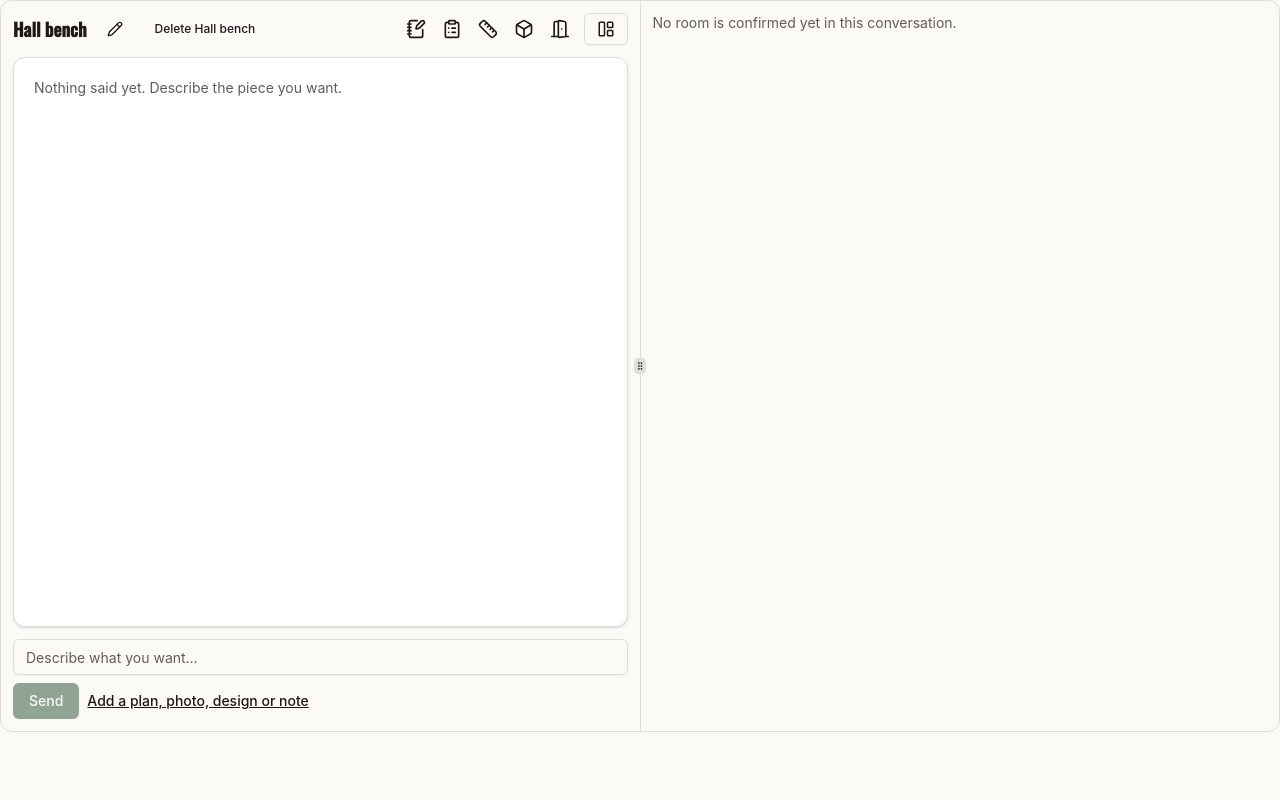
with no piece the Piece icon shows the piece pane, which says so (No piece yet)
Click the button named "Piece" at (524, 29), box [508, 13, 540, 45]
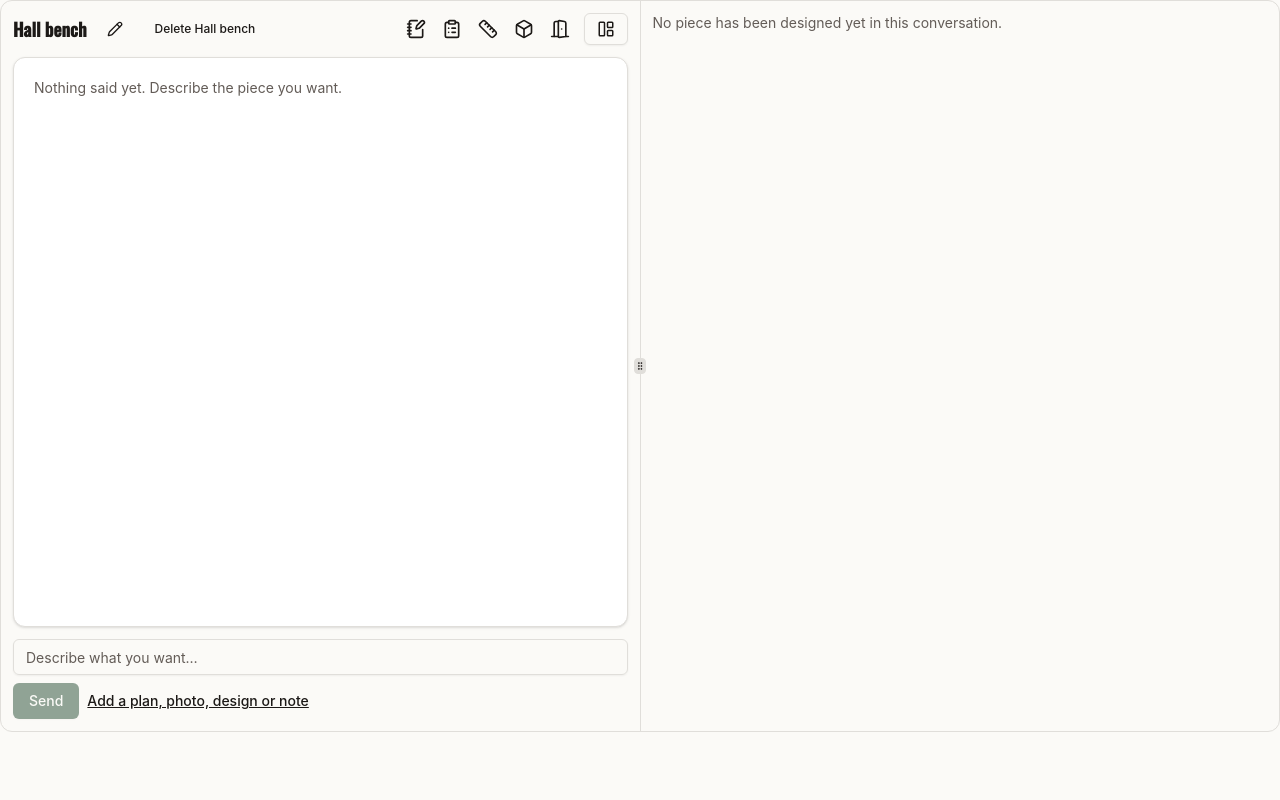
Expected: the text "No piece has been designed yet in this conversation." is shown, [652, 14, 1002, 31]
